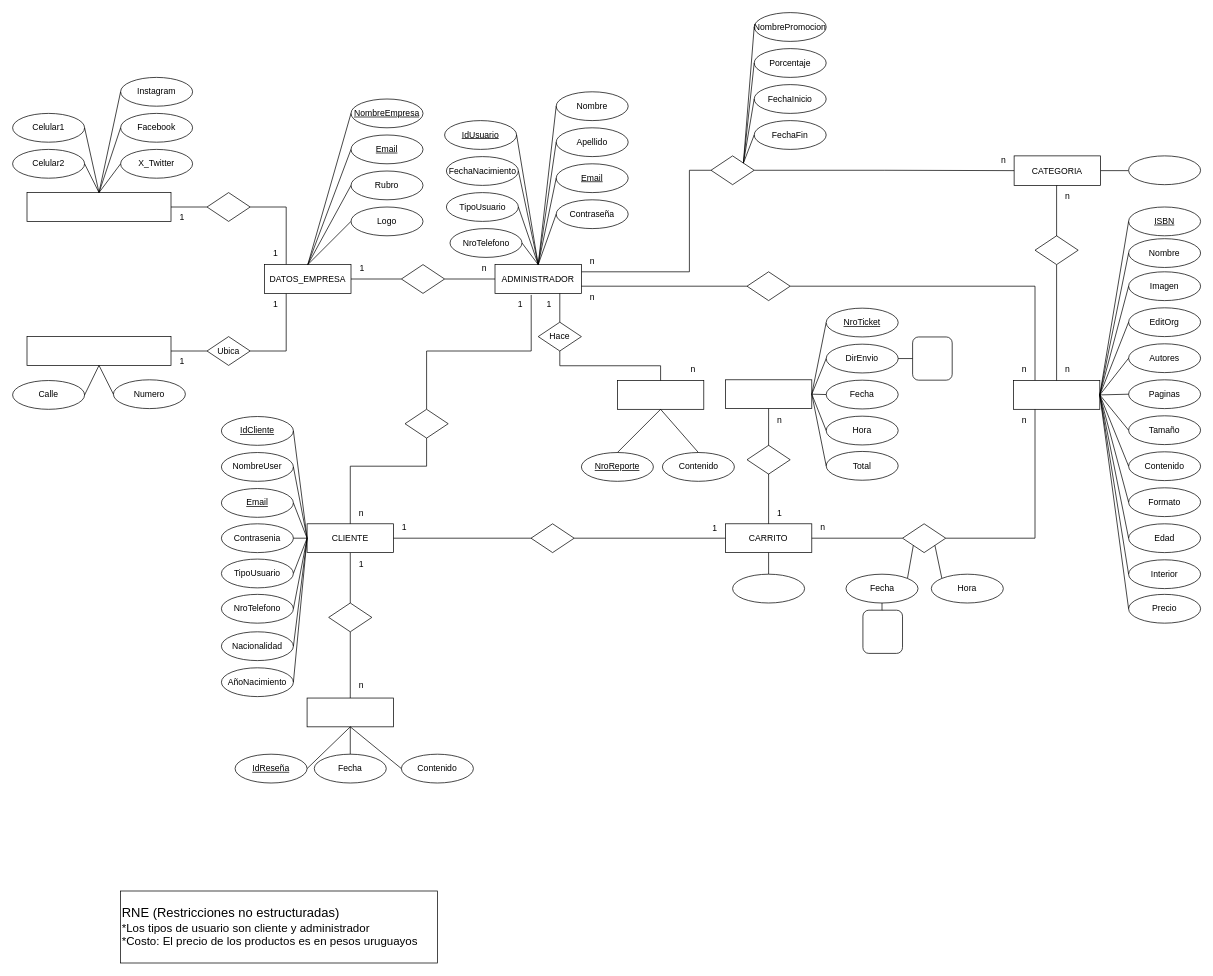
The diagram is 1213 pixels wide and 976 high, and some of its shapes have lost their labels. The box of each missing label's shape, as (x1, y1, x2, y2) in pixels:
-Calle -Número: (912, 336, 952, 380)
-Dia -Mes -Año: (862, 609, 903, 653)
Agrega: (902, 523, 946, 553)
Aplica: (710, 155, 754, 185)
Carga: (401, 264, 445, 293)
Compra: (746, 445, 790, 474)
Contacta: (206, 192, 250, 221)
Crea: (746, 271, 790, 301)
DATOS_EMPRESA_CONTACTO: (26, 192, 171, 221)
DATOS_EMPRESA_DIRECCION: (26, 336, 171, 365)
Gestiona: (404, 409, 448, 438)
HISTORIETA: (1013, 380, 1100, 409)
IdCarrito: (732, 573, 805, 603)
NombreCategoria: (1128, 155, 1201, 185)
Pertenece: (1034, 235, 1078, 265)
REPORTE: (617, 380, 704, 409)
RESEÑA: (306, 697, 393, 727)
Reseñar: (328, 602, 372, 632)
TICKET: (725, 379, 812, 409)
Tiene: (530, 523, 574, 553)
